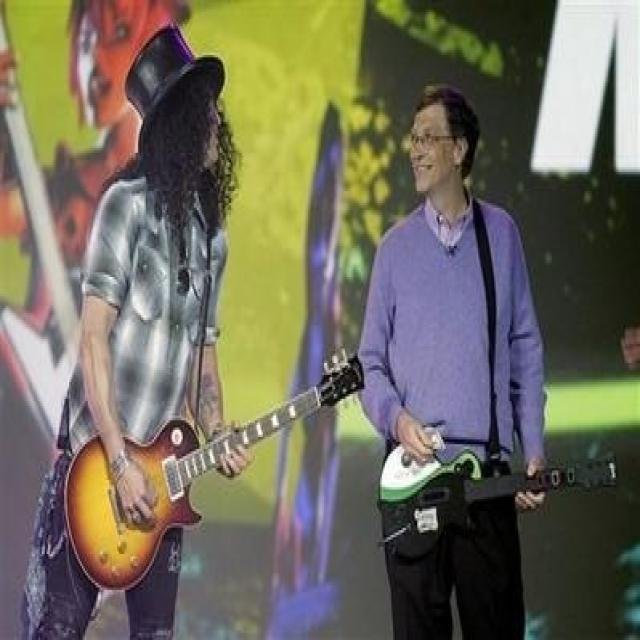guitar: (60, 348, 368, 591), (378, 433, 619, 564)
